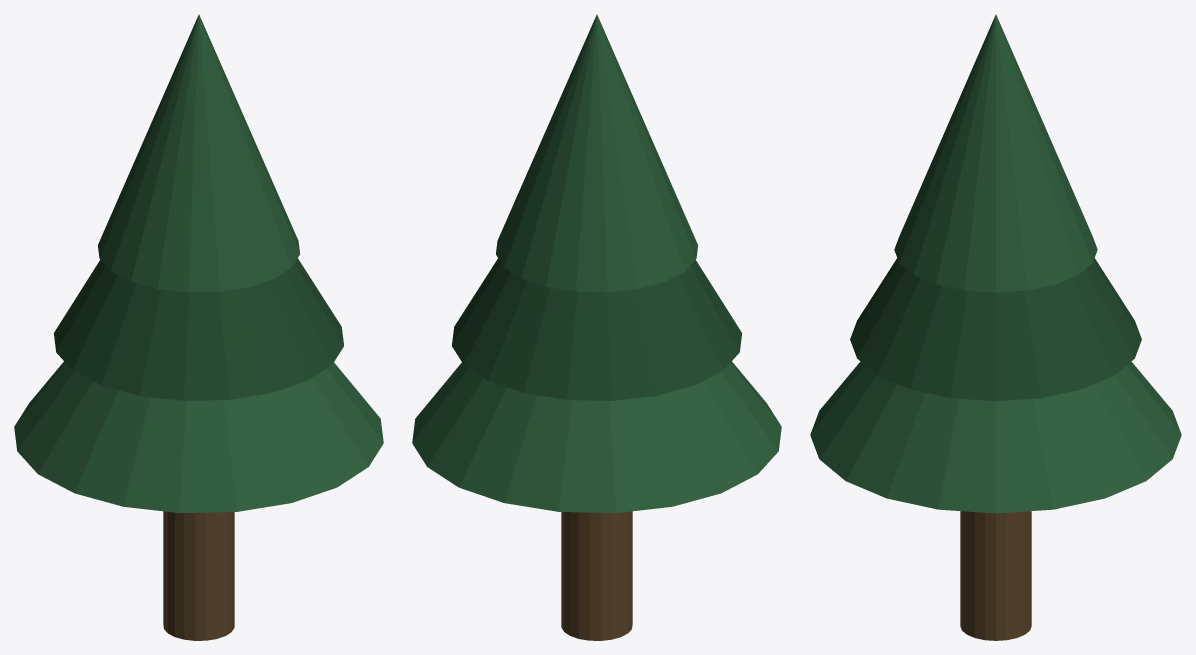
Rendered from tree_pine_01.glb.
3 renders of one model, left to right at view 1: azimuth 30°, elevation 25°; view 2: azimuth 150°, elevation 25°; view 3: azimuth 270°, elevation 25°, orthographic.
Visible parts, largest first — view 1: Cylinder; view 2: Cylinder; view 3: Cylinder.
Boxes of the visible parts, <box> form: Cylinder: <box>14,14,383,640</box>; Cylinder: <box>412,14,781,640</box>; Cylinder: <box>810,14,1181,640</box>.
Bounding box in the file's own units: 0.7261 × 1.32 × 0.7261.
